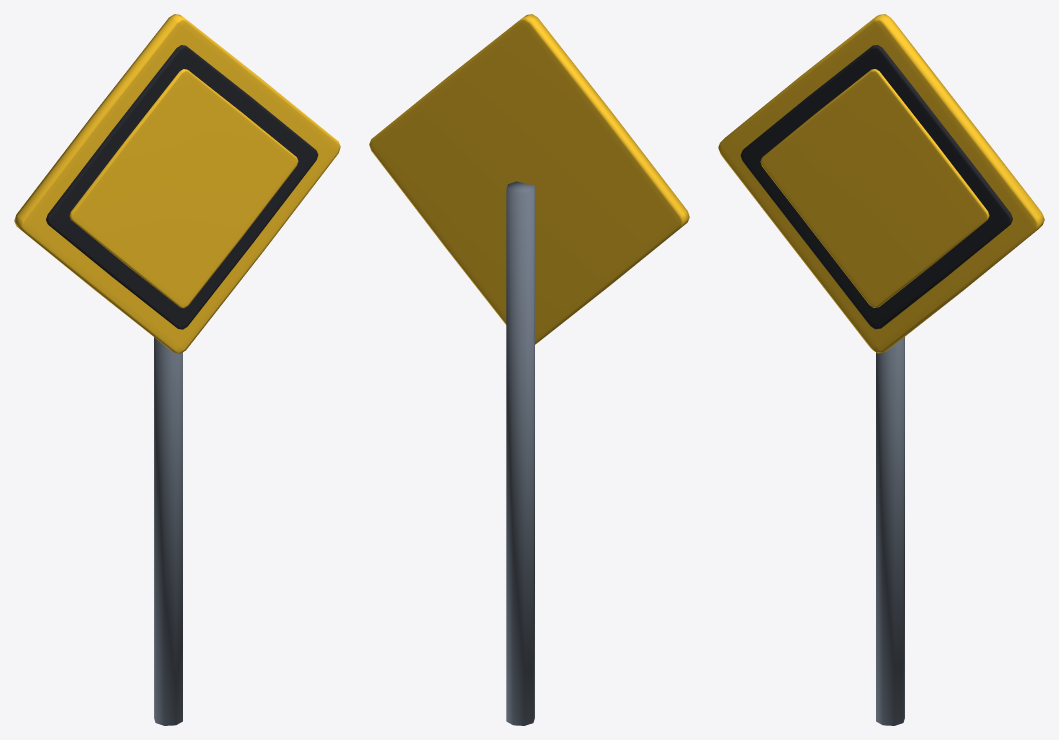
File: road_sign.glb
3 renders of one model, left to right at view 1: azimuth 30°, elevation 25°; view 2: azimuth 150°, elevation 25°; view 3: azimuth 330°, elevation 25°, orthographic.
Parts seen in each view (by area): view 1: Body; view 2: Body; view 3: Body.
Boxes of the visible parts, <box> form: Body: <box>14,14,340,725</box>; Body: <box>369,14,689,725</box>; Body: <box>718,14,1044,725</box>.
Bounding box in the file's own units: 1.24 × 2.62 × 0.16.
